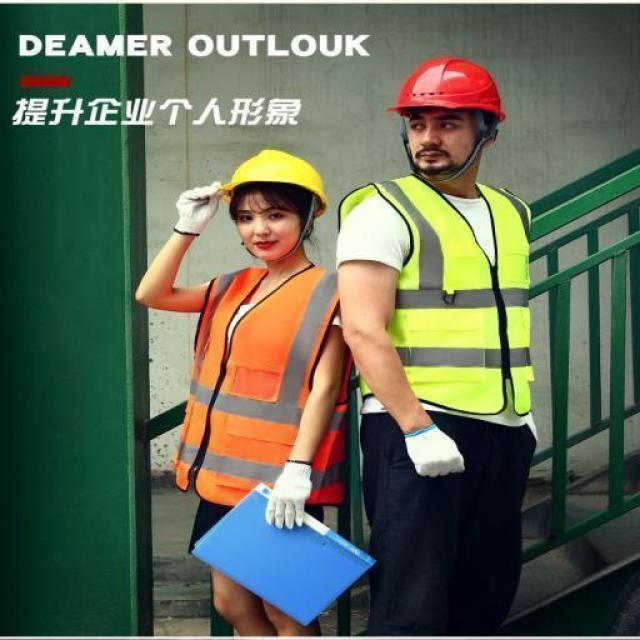gloves: (399, 418, 468, 479), (259, 464, 313, 536), (172, 178, 227, 232)
helmet: (385, 52, 510, 120), (218, 147, 331, 217)
vest: (337, 174, 542, 423), (184, 257, 350, 514)
